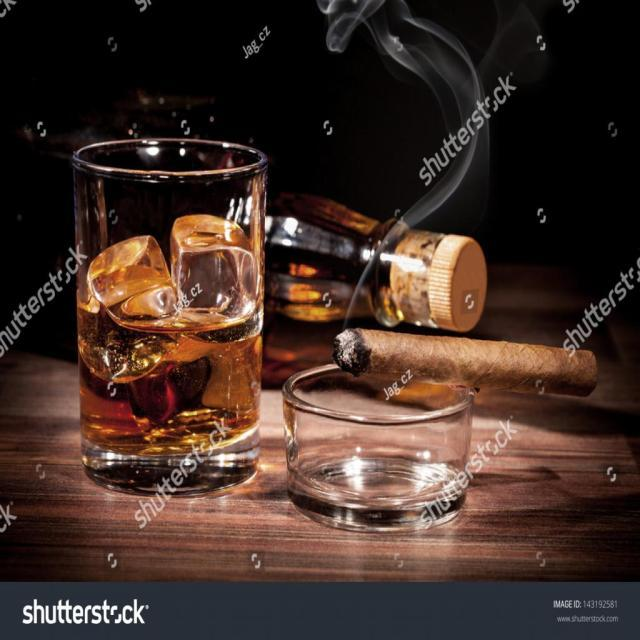smoking: (331, 325, 601, 400)
